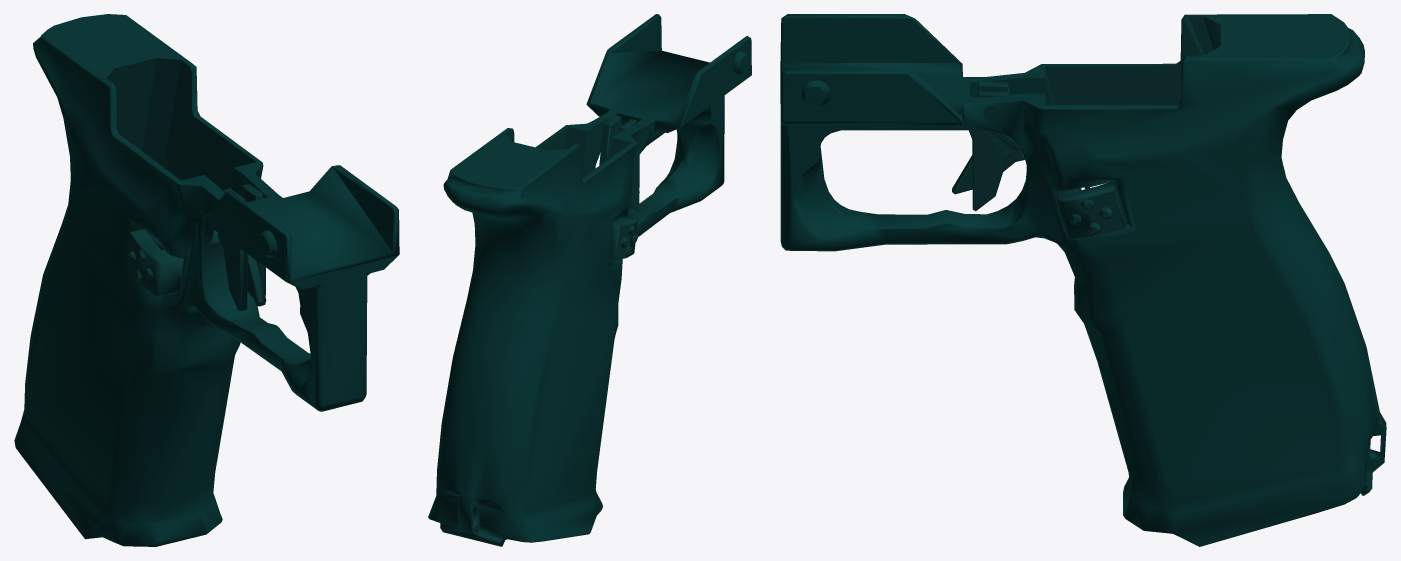
File: Stock_Pistol_1.glb
The picture shows the model from 3 angles, left to right: view 1: azimuth 30°, elevation 25°; view 2: azimuth 150°, elevation 25°; view 3: azimuth 270°, elevation 25°; orthographic projection. The views are drawn at different scales.
Visible parts, largest first — view 1: Stock_Pistol_1_1.001; view 2: Stock_Pistol_1_1.001; view 3: Stock_Pistol_1_1.001.
Boxes of the visible parts, <box> form: Stock_Pistol_1_1.001: <box>14,14,399,546</box>; Stock_Pistol_1_1.001: <box>428,14,751,546</box>; Stock_Pistol_1_1.001: <box>780,14,1386,546</box>.
Size of the model in its own units: 0.0357 by 0.123 by 0.1407.
